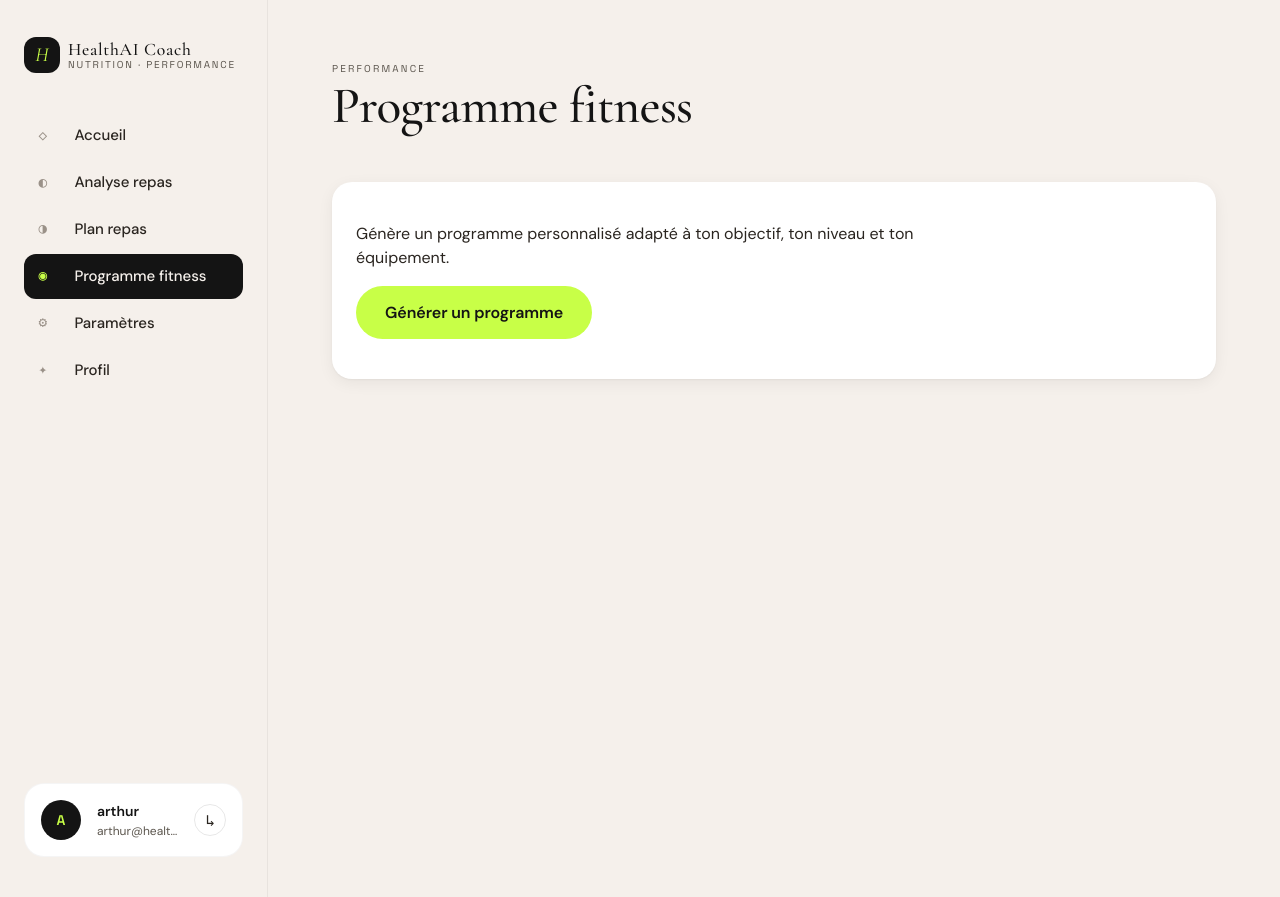
Test case: FitnessProgramView › feedback flow › shows the rate-limit banner inside the modal on 429
Click the button with test id "generate-program-cta" at (474, 312), box x1=356 y1=286 x2=592 y2=339
(page scrolled)
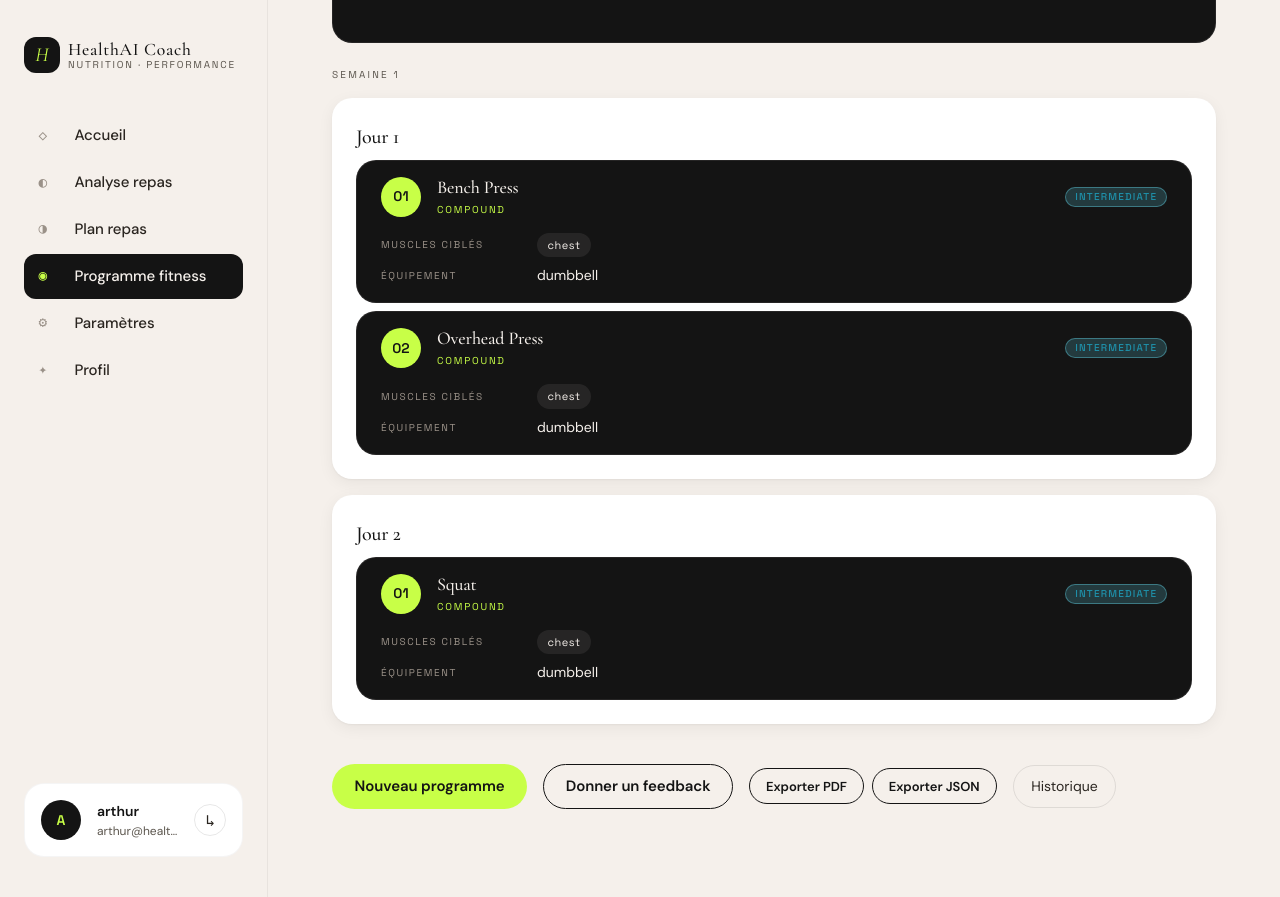
Click the button with test id "program-feedback-cta" at (638, 786), box x1=543 y1=764 x2=733 y2=809
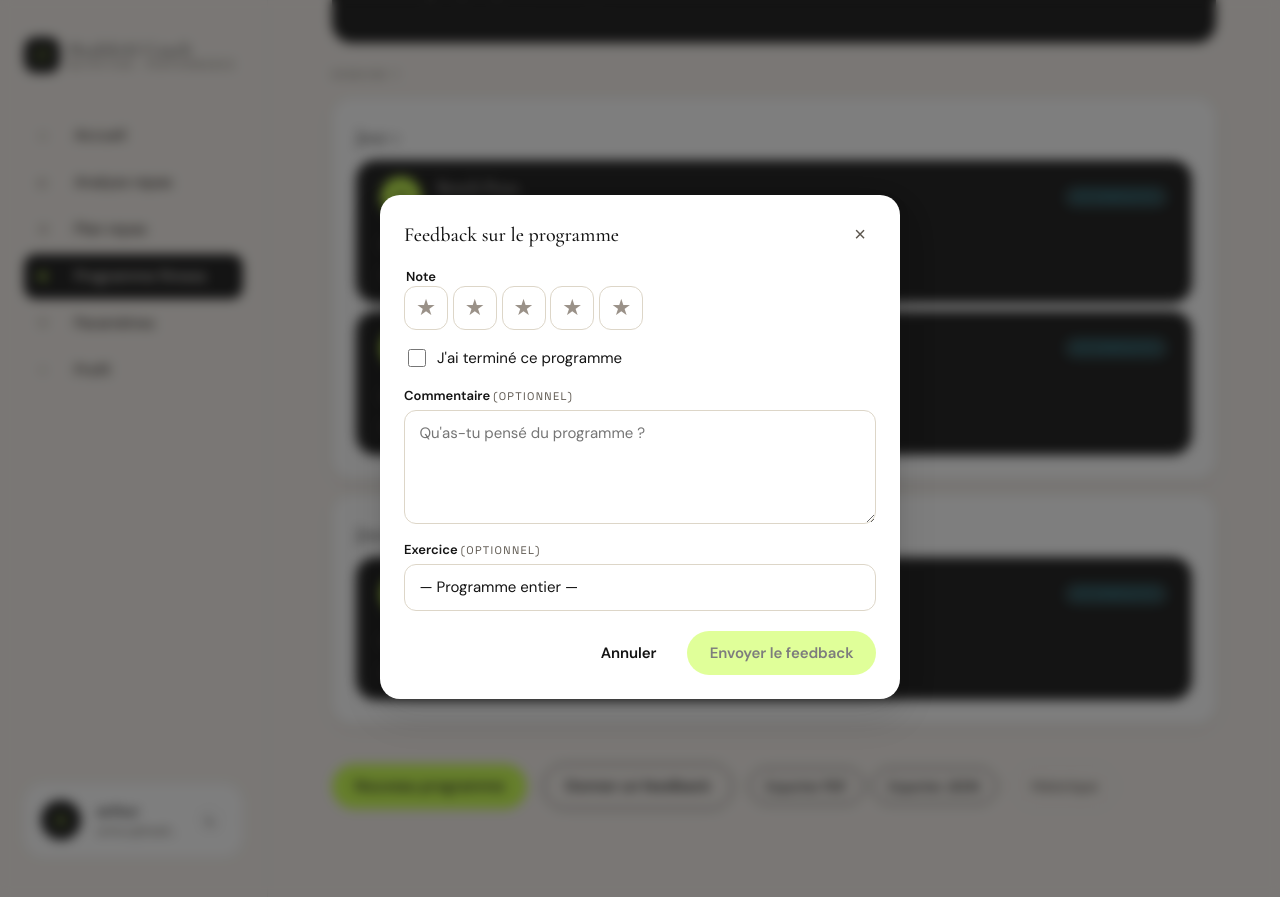
Click the radio button with test id "feedback-rating-3" at (524, 308), box x1=502 y1=286 x2=546 y2=330
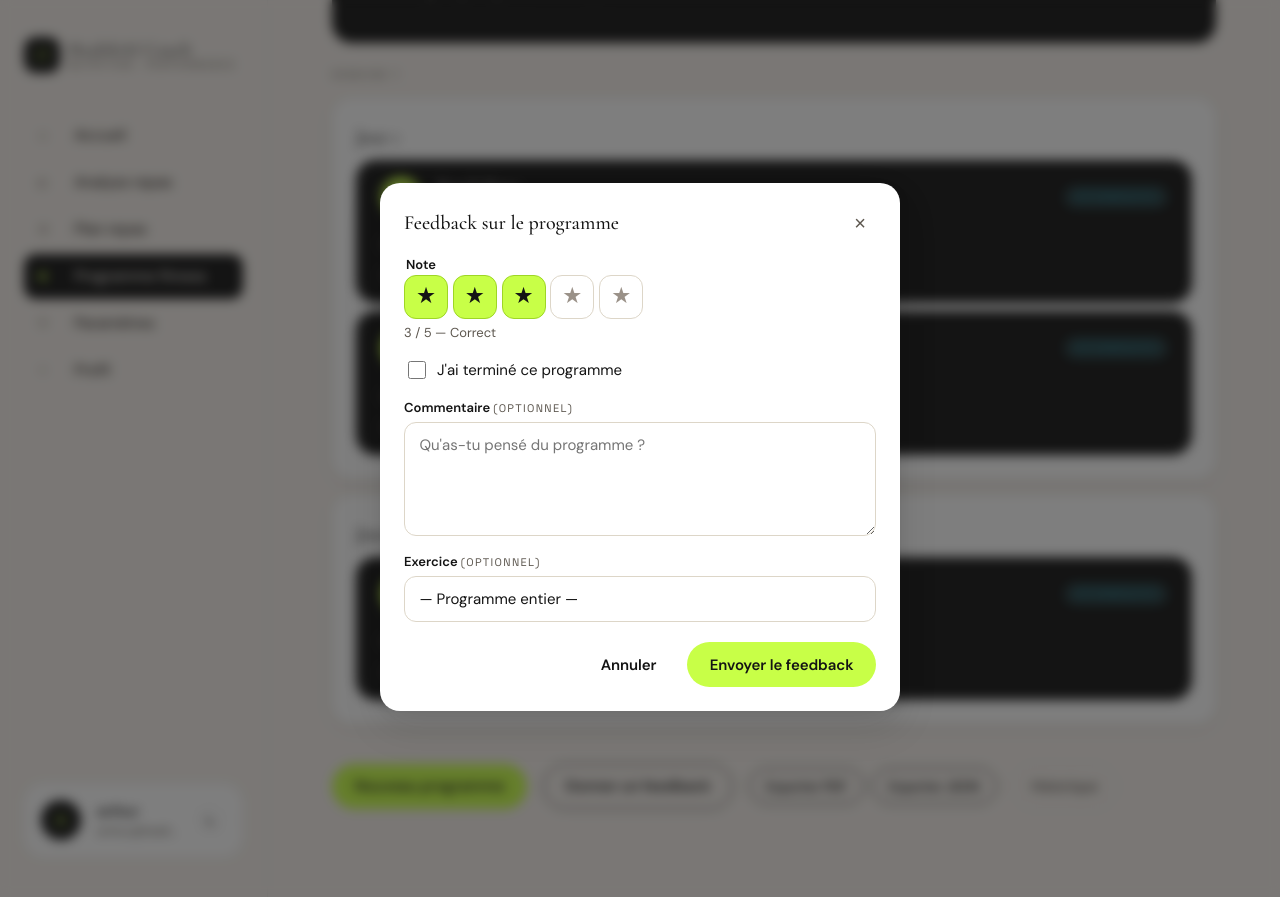
Submit the form with test id "feedback-form", box x1=404 y1=255 x2=876 y2=687
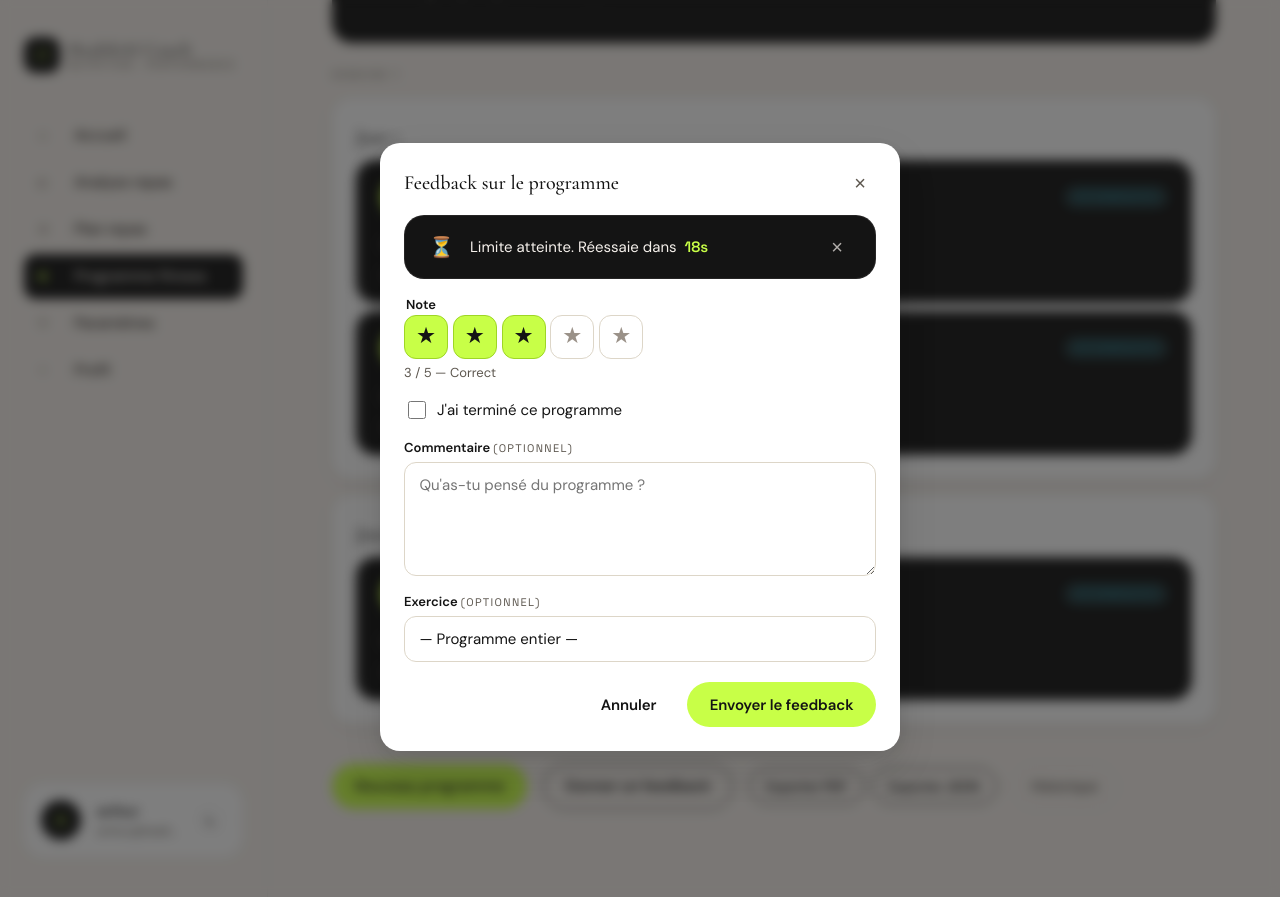
Check: the element with test id "feedback-rate-limit" shows "18", box x1=404 y1=215 x2=876 y2=279
